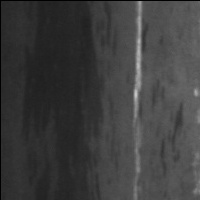inclusion: (25, 3, 105, 200), (155, 99, 186, 177)
scratches: (129, 2, 147, 186)
